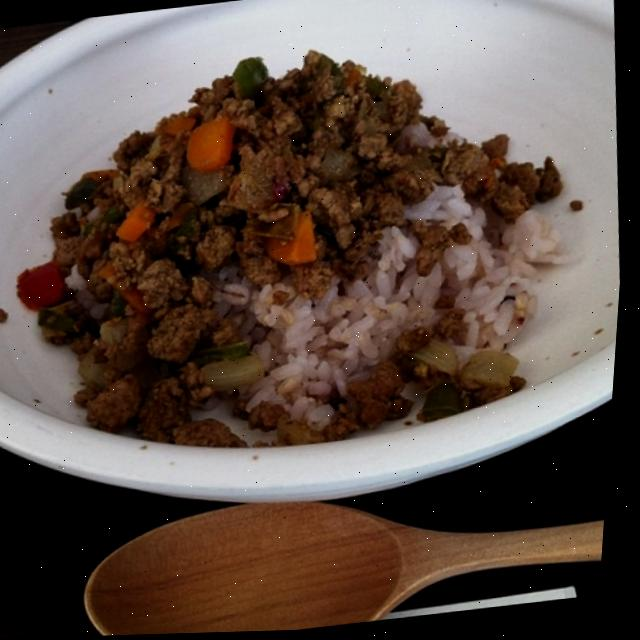鸡肉料理 含炸鸡: (30, 0, 640, 639)
